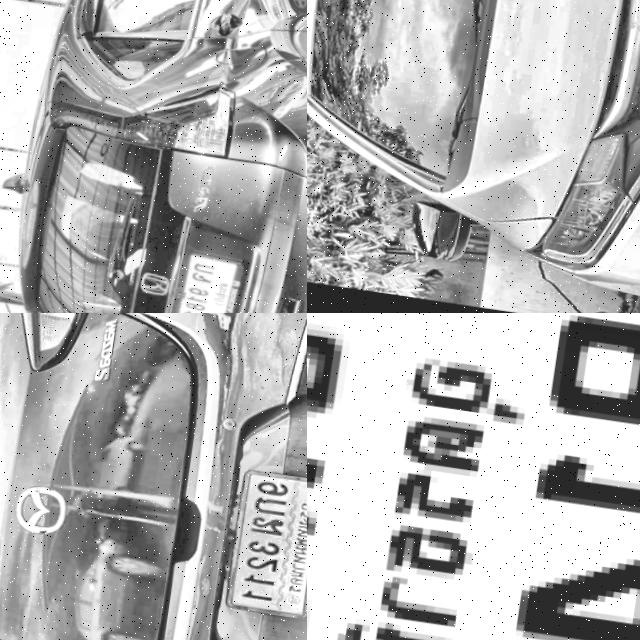license-plate: (307, 313, 640, 640), (223, 468, 307, 623), (174, 250, 243, 313)
